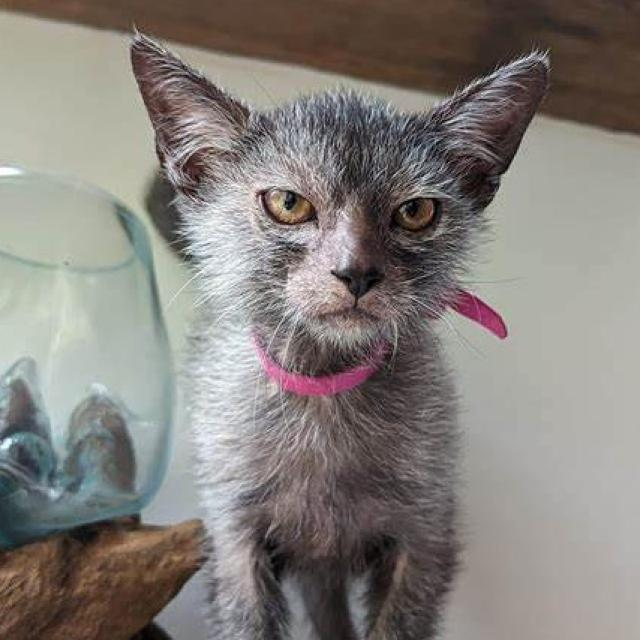Lykoi: (121, 24, 559, 640)
